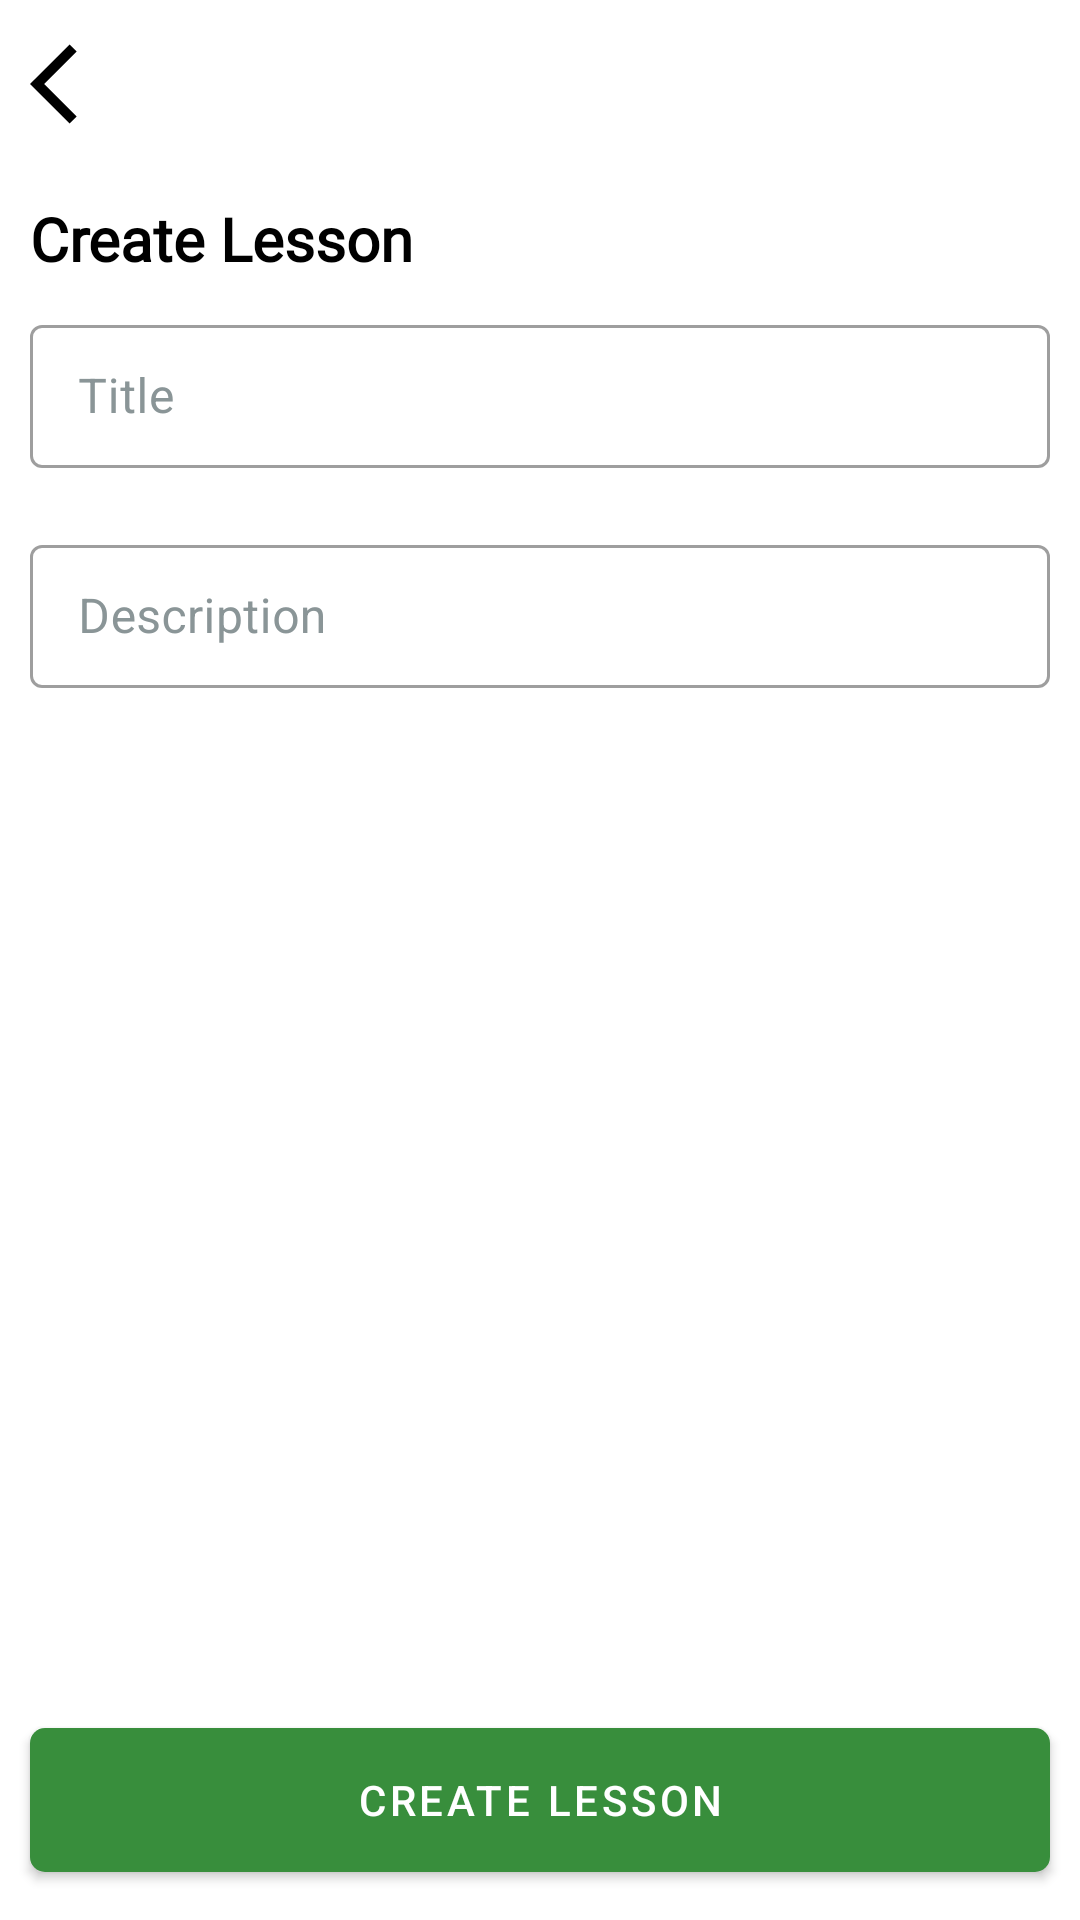

Icon click points for this 1080 x 1920 phone screenshot, format (x,y):
arrow back: (53,84)
